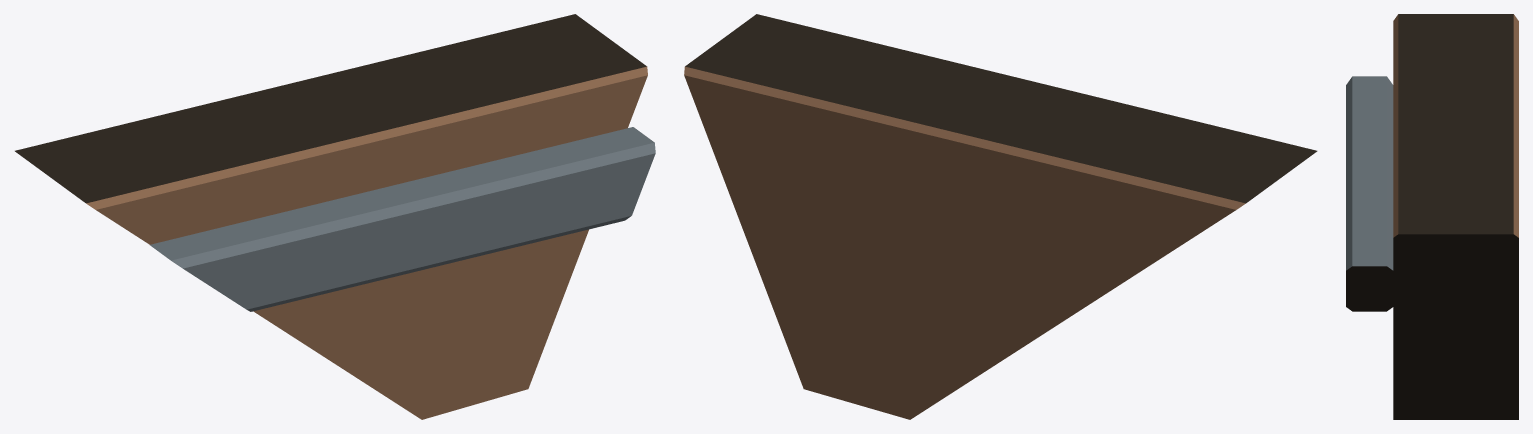
The model's file is SM_DoorShard_03_30.fbx.
The picture shows the model from 3 angles, left to right: view 1: azimuth 30°, elevation 25°; view 2: azimuth 150°, elevation 25°; view 3: azimuth 270°, elevation 25°; orthographic projection. The views are drawn at different scales.
Parts seen in each view (by area): view 1: SM_DoorShard_03_30; view 2: SM_DoorShard_03_30; view 3: SM_DoorShard_03_30.
Part boxes in pixels (left/top/right/bottom): SM_DoorShard_03_30: left=15, top=14, right=655, bottom=419; SM_DoorShard_03_30: left=684, top=14, right=1317, bottom=419; SM_DoorShard_03_30: left=1346, top=14, right=1518, bottom=419.
Size of the model in its own units: 66.36 by 22 by 33.37.
